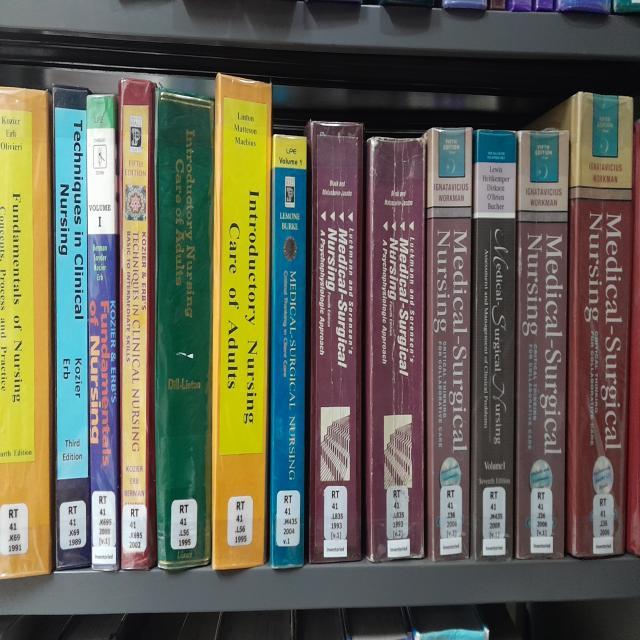book: (568, 92, 634, 557), (212, 73, 272, 570), (154, 88, 214, 569), (0, 87, 54, 579), (365, 137, 425, 562), (306, 121, 363, 561), (515, 128, 569, 559), (426, 127, 473, 560), (470, 130, 516, 557), (52, 86, 91, 570), (120, 80, 154, 569), (86, 94, 120, 569), (270, 135, 307, 569)
